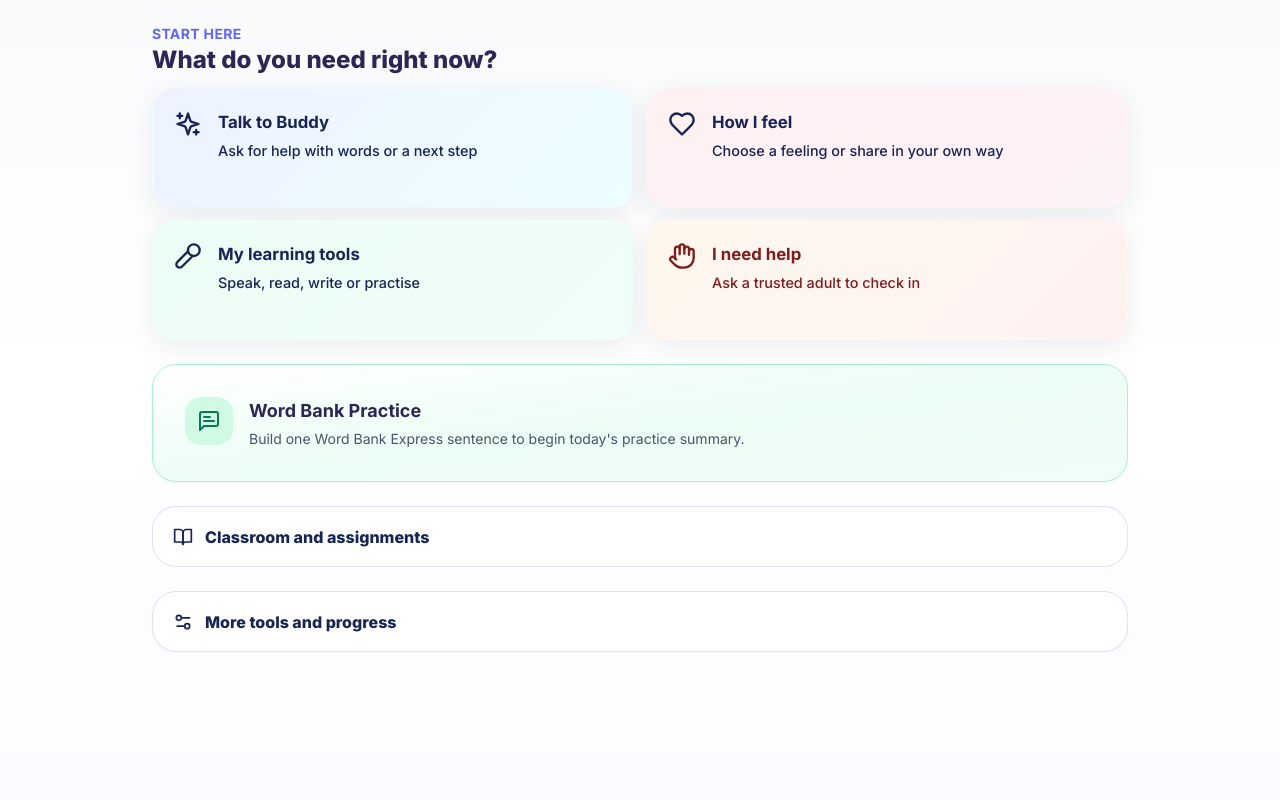
it: the real tracing card records honest partial practice and measured time, not its eight-minute estimate
This screenshot has width=1280, height=800.
Step 1. Click the heading "More tools and progress" → [285, 622], box [173,612,396,632]
(page scrolled)
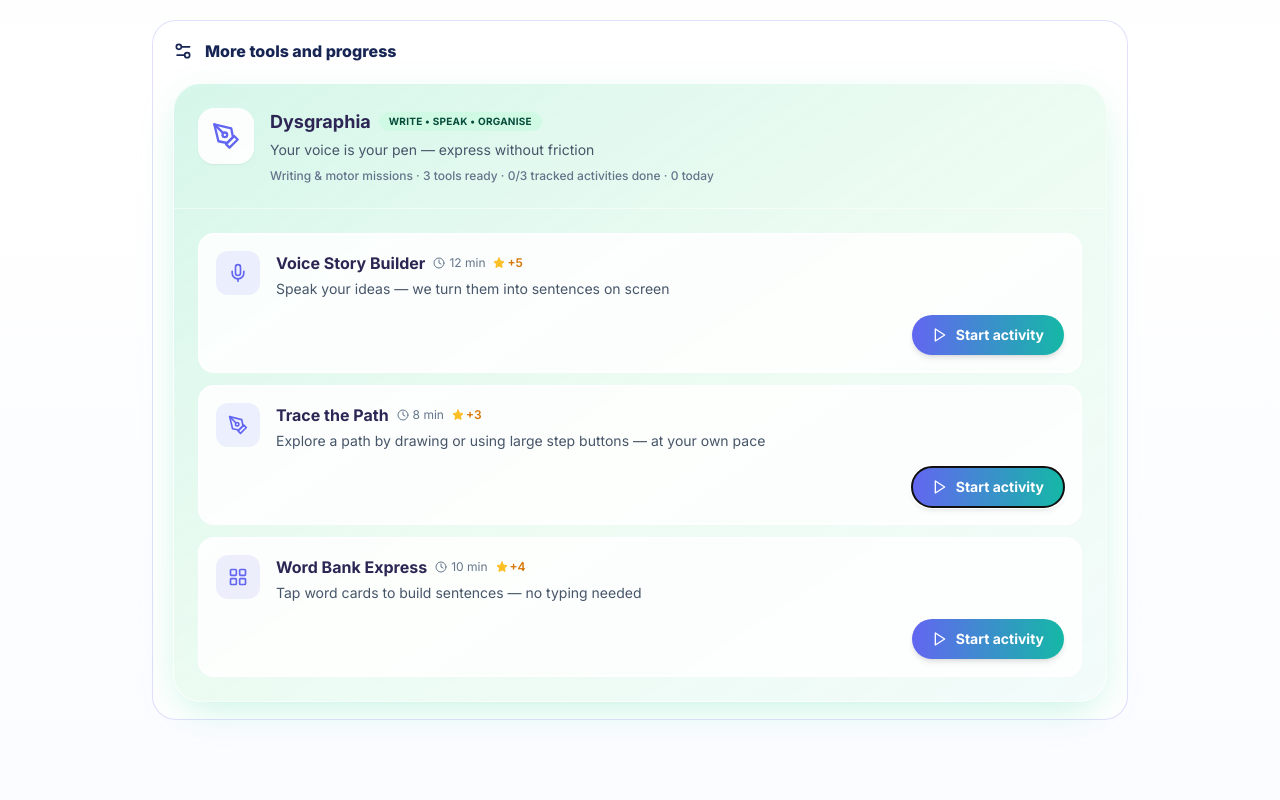
Step 2. Click the 2nd button "Start activity" → [988, 487], box [912,467,1064,507]
(page scrolled)
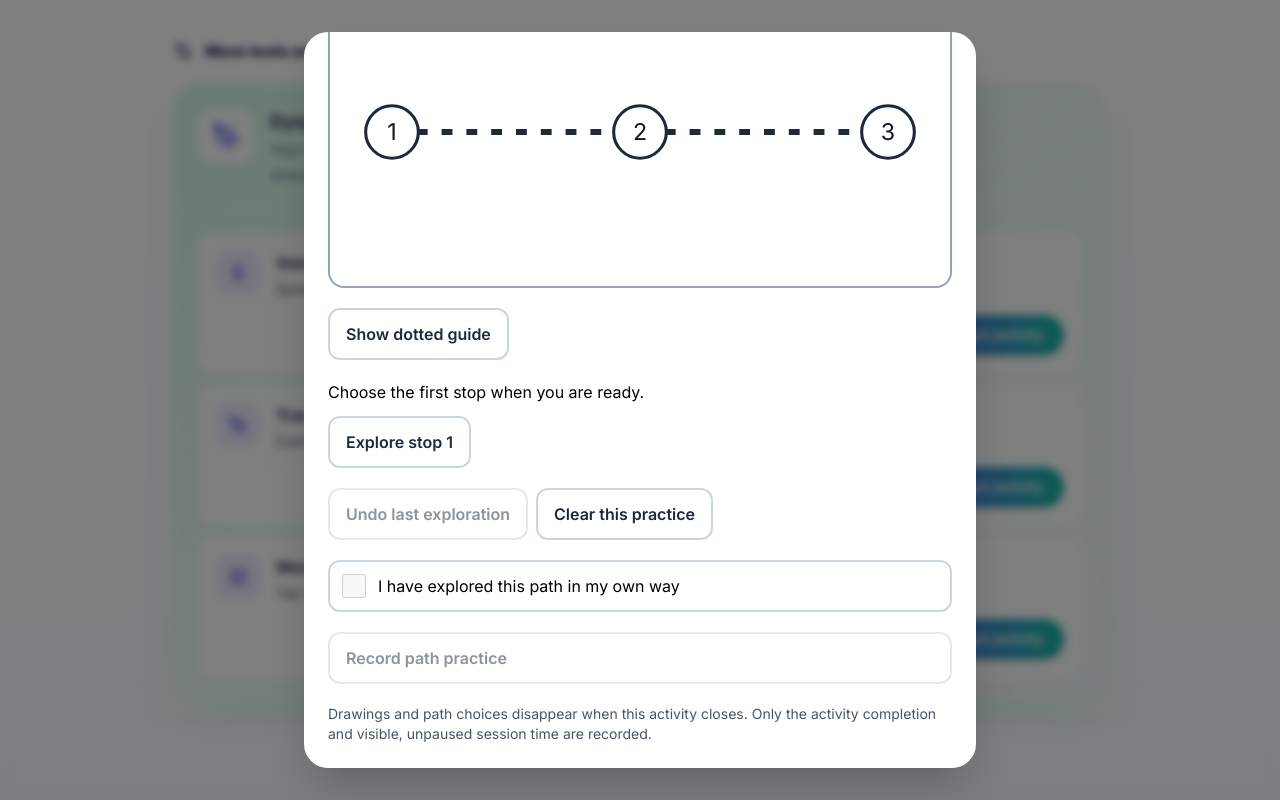
Expected: the dialog is shown, [304,32,976,768]
Step 3. Click the button "Explore stop 1" → [400, 442], box [328,416,471,468]
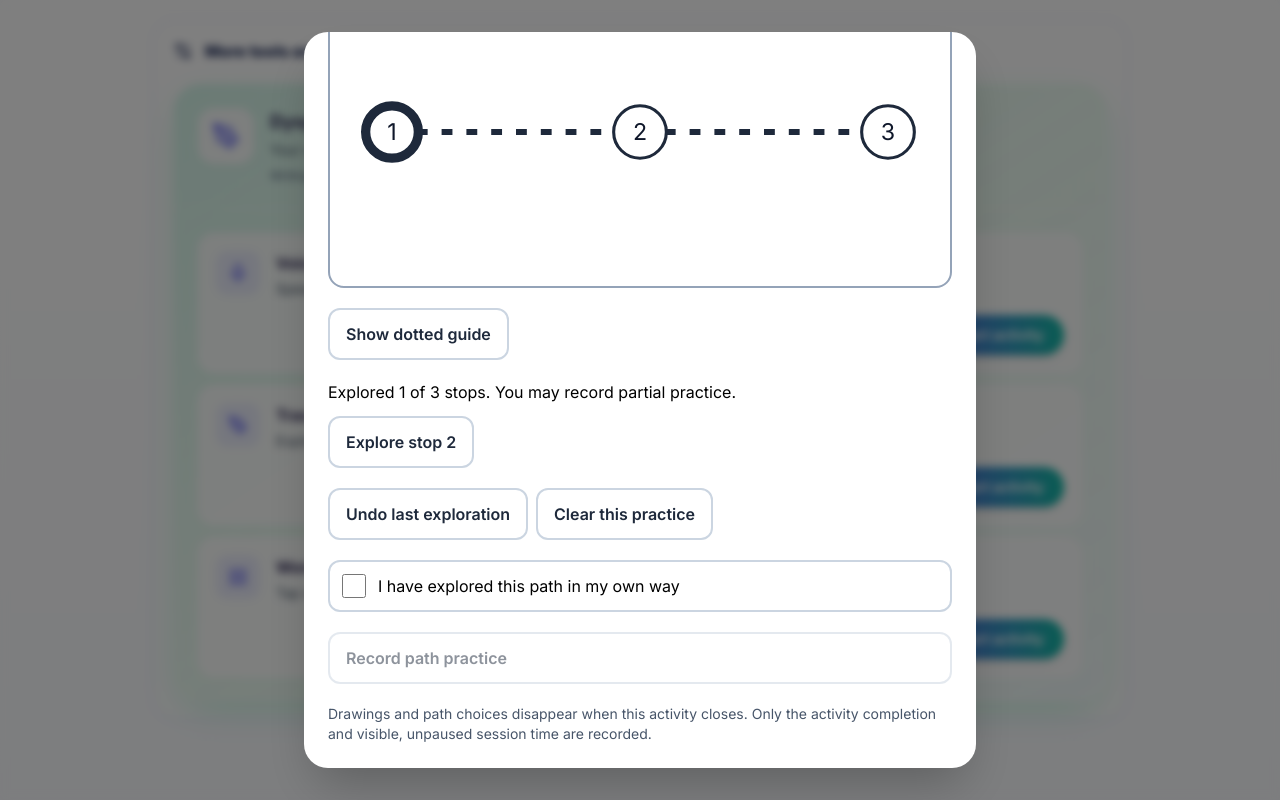
Step 4. Click the checkbox → [354, 586], box [342,574,366,598]
Wait 12000 ms
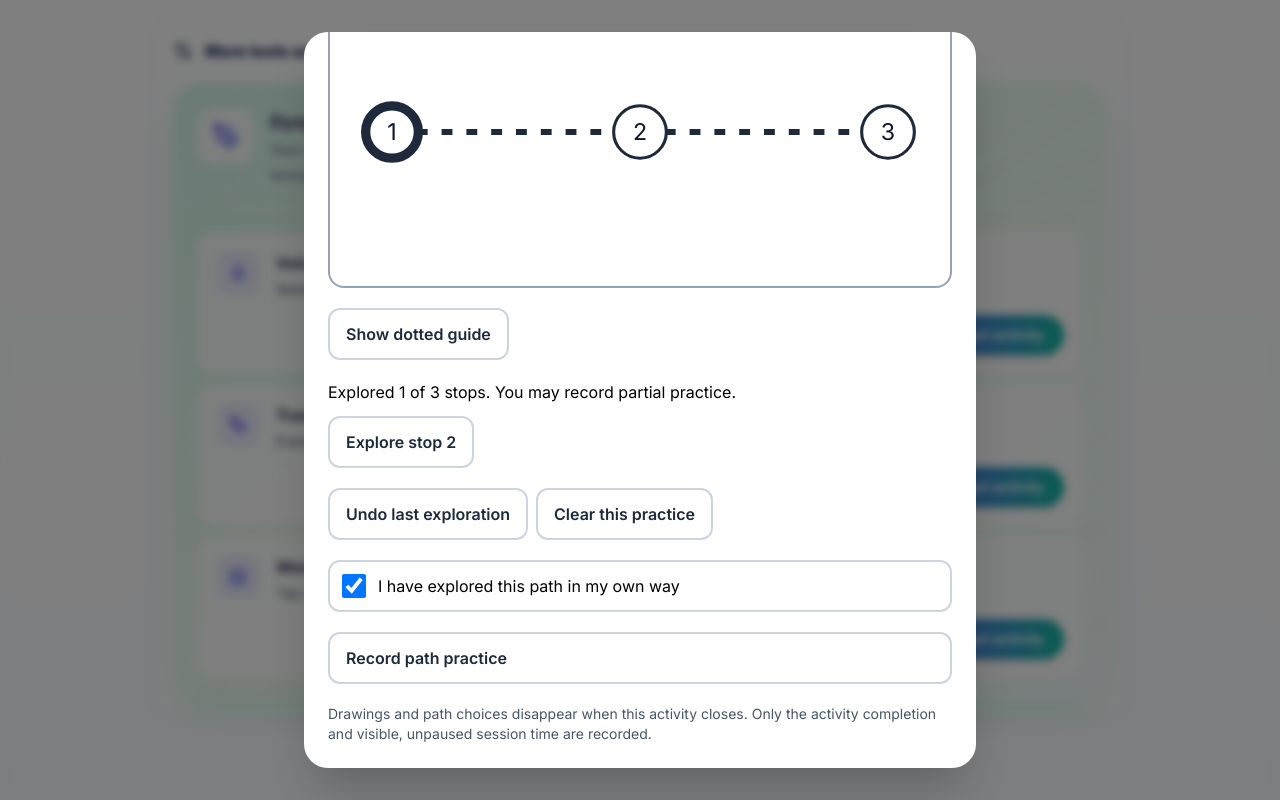
Step 5. Click the button "Record path practice" → [426, 658], box [328,632,952,684]
(page scrolled)
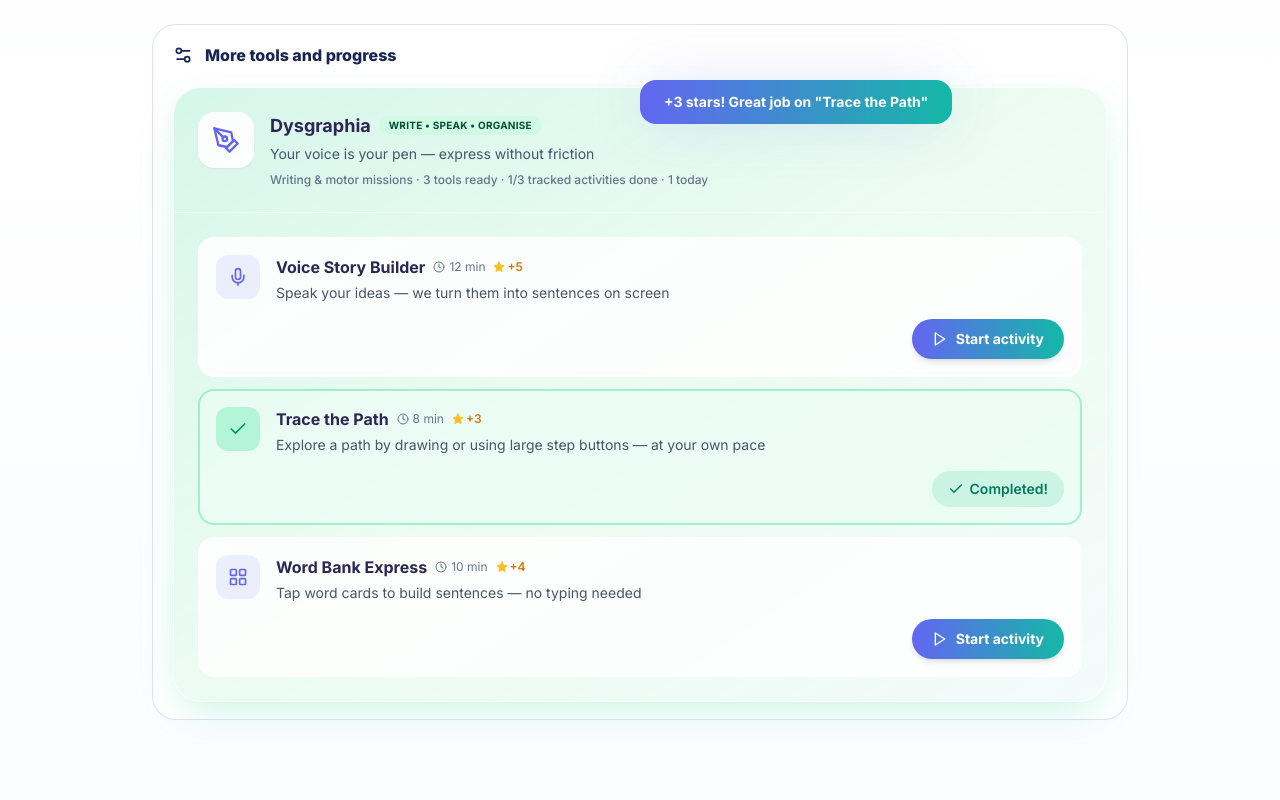
Expected: the dialog is gone
